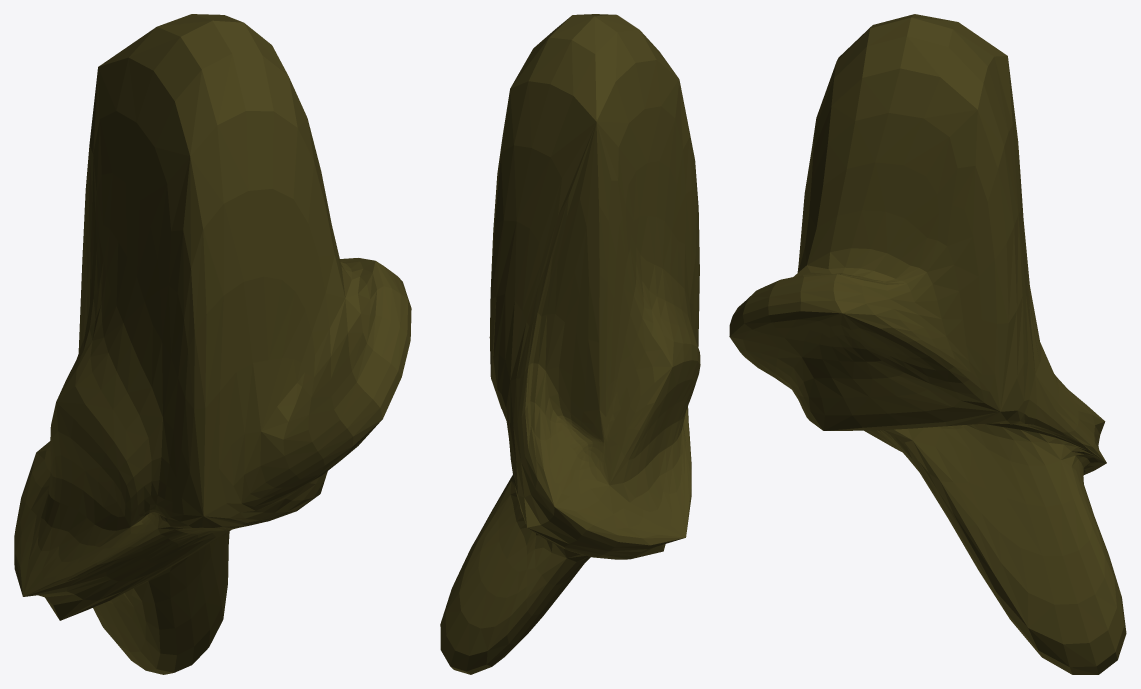
3 renders of one model, left to right at view 1: azimuth 30°, elevation 25°; view 2: azimuth 150°, elevation 25°; view 3: azimuth 270°, elevation 25°, orthographic. The views are drawn at different scales.
Parts seen in each view (by area): view 1: 171_Cube.710; view 2: 171_Cube.710; view 3: 171_Cube.710.
Part boxes in pixels (left/top/right/bottom): 171_Cube.710: left=14, top=14, right=411, bottom=674; 171_Cube.710: left=440, top=14, right=700, bottom=674; 171_Cube.710: left=729, top=14, right=1126, bottom=674.
Bounding box in the file's own units: 7.86 × 18.29 × 10.39.
